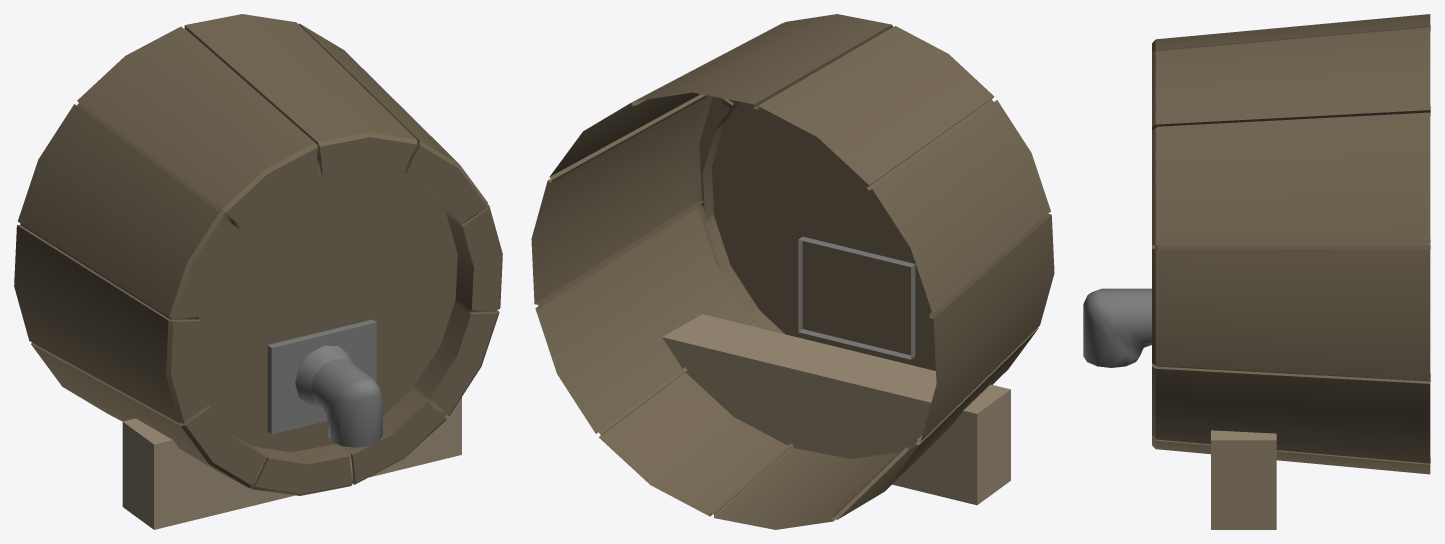
File: SM_Barrel04.fbx
3 renders of one model, left to right at view 1: azimuth 30°, elevation 25°; view 2: azimuth 150°, elevation 25°; view 3: azimuth 270°, elevation 25°, orthographic. The views are drawn at different scales.
Visible parts, largest first — view 1: polySurface1; view 2: polySurface1; view 3: polySurface1.
Part boxes in pixels (bbox=[...]): polySurface1: bbox=[14, 14, 502, 529]; polySurface1: bbox=[531, 14, 1054, 529]; polySurface1: bbox=[1083, 14, 1430, 529].
Size of the model in its own units: 153 by 152 by 116.
